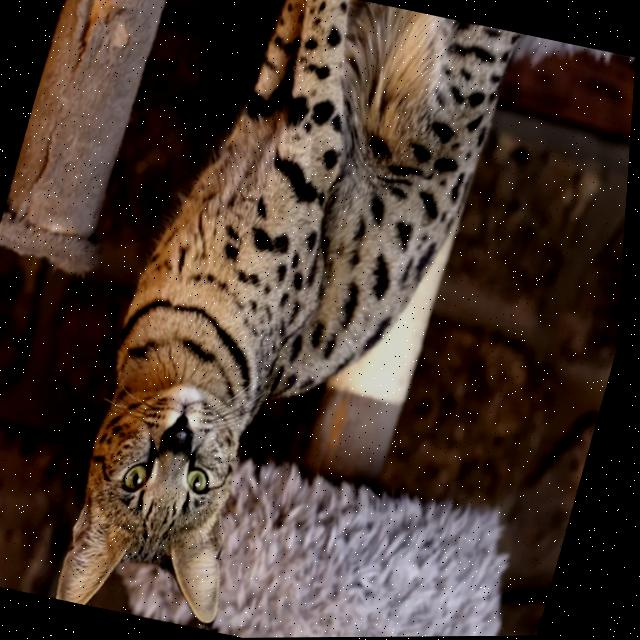Savannah: (47, 0, 570, 640)
